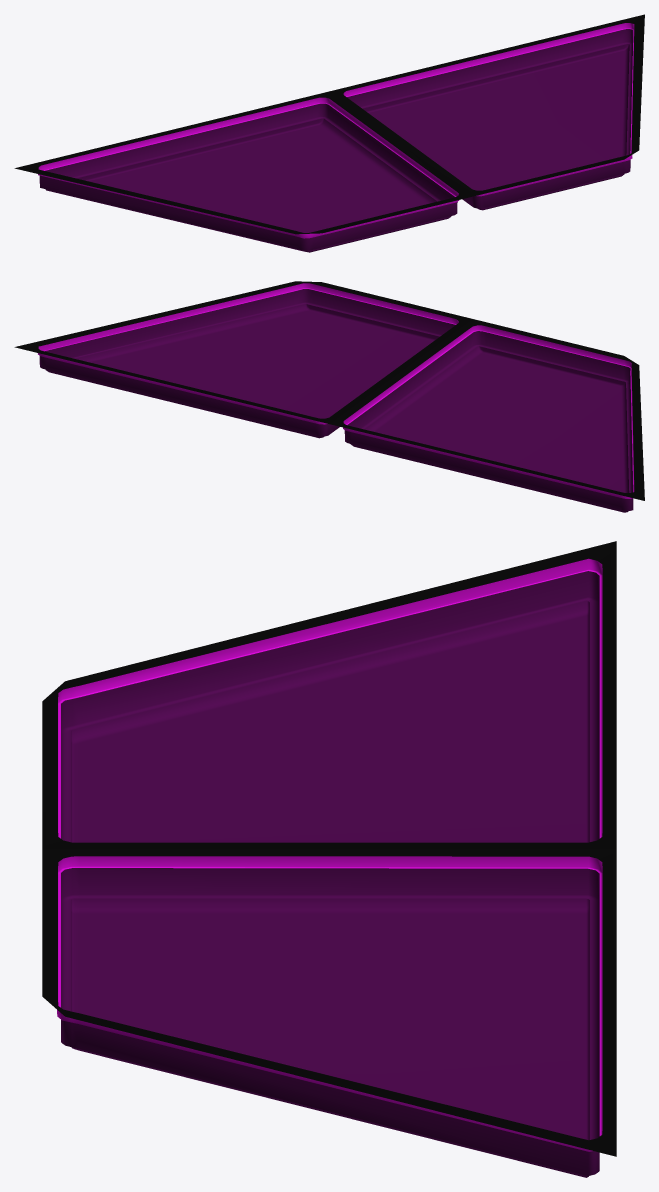
File: ControlRoomRoofBox.fbx
3 renders of one model, top to bottom at view 1: azimuth 30°, elevation 25°; view 2: azimuth 150°, elevation 25°; view 3: azimuth 270°, elevation 25°, orthographic. The views are drawn at different scales.
Visible parts, largest first — view 1: ControlRoomRoofBox001; view 2: ControlRoomRoofBox001; view 3: ControlRoomRoofBox001.
Boxes of the visible parts, <box> form: ControlRoomRoofBox001: <box>14,14,644,252</box>; ControlRoomRoofBox001: <box>14,281,644,512</box>; ControlRoomRoofBox001: <box>42,541,616,1177</box>.
Bounding box in the file's own units: 871 × 31.54 × 344.
